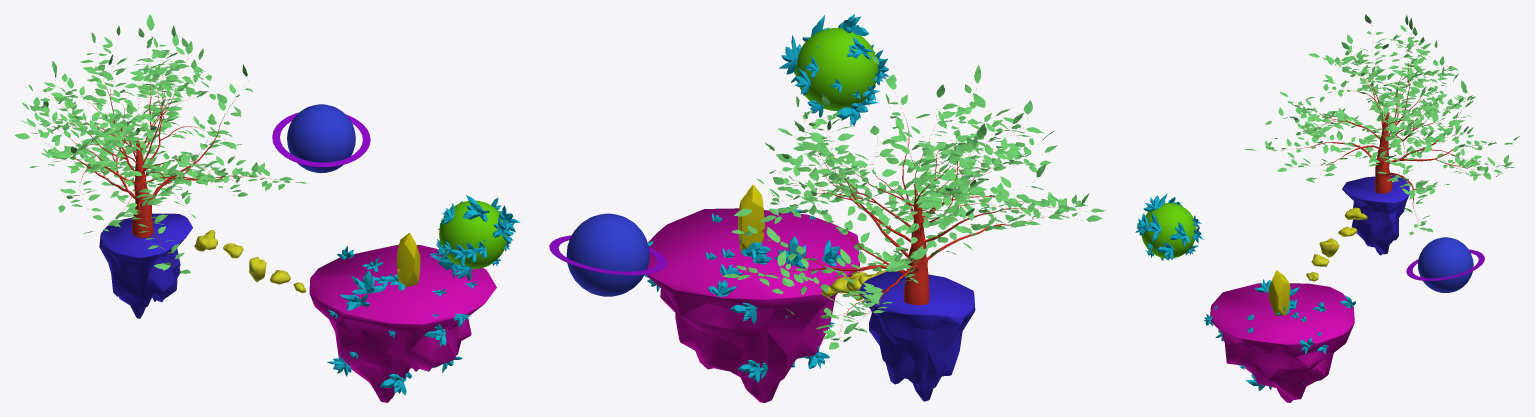
The model's file is Crystals.fbx.
The picture shows the model from 3 angles, left to right: view 1: azimuth 30°, elevation 25°; view 2: azimuth 150°, elevation 25°; view 3: azimuth 270°, elevation 25°; orthographic projection. The views are drawn at different scales.
Visible parts, largest first — view 1: leaves, main planet, tree planet, saturn (×2), tree bark, Sphere.002, small rocks, main crystal, Cube; view 2: main planet, leaves, tree planet, saturn (×2), Sphere.002, tree bark, main crystal, small rocks; view 3: leaves, main planet, tree planet, saturn (×2), tree bark, Sphere.002, small rocks, main crystal.
Part boxes in pixels (x1,y1,x2,y2): leaves: (14,14,307,273); main planet: (309,244,496,402); tree planet: (99,213,192,318); saturn (×2): (272,104,370,173); tree bark: (38,58,271,261); Sphere.002: (439,200,507,269); small rocks: (194,230,306,293); main crystal: (396,233,420,287); Cube: (351,270,385,294); main planet: (646,208,859,402); leaves: (722,56,1105,349); tree planet: (859,271,975,401); saturn (×2): (549,213,666,296); Sphere.002: (795,28,878,110); tree bark: (753,115,1068,331); main crystal: (738,184,764,251); small rocks: (821,270,886,300); leaves: (1244,14,1519,235); main planet: (1210,283,1354,402); tree planet: (1342,175,1409,255); saturn (×2): (1406,237,1484,292); tree bark: (1281,43,1505,222); Sphere.002: (1141,203,1196,258); small rocks: (1306,207,1367,281); main crystal: (1268,270,1289,315).
Bounding box in the file's own units: 466 × 411 × 477.
